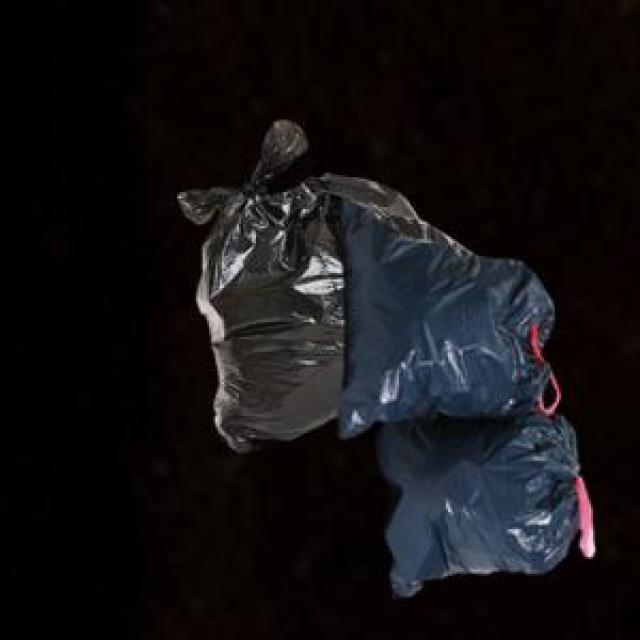waste: (179, 121, 588, 597)
